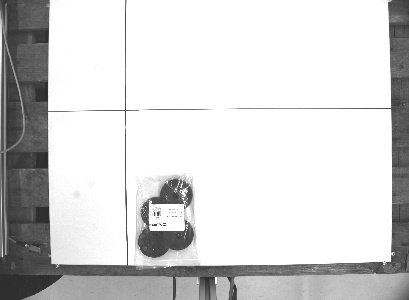t1: (129, 165, 206, 272)
